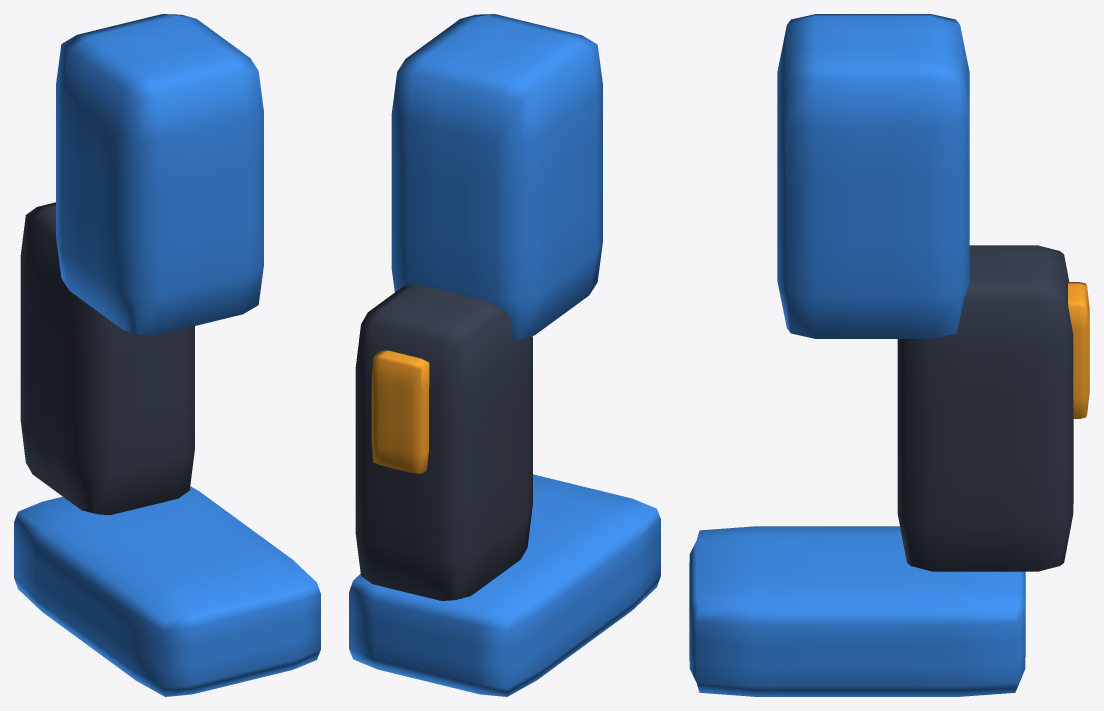
The model's file is leg_reverse.obj.
The picture shows the model from 3 angles, left to right: view 1: azimuth 30°, elevation 25°; view 2: azimuth 150°, elevation 25°; view 3: azimuth 270°, elevation 25°; orthographic projection. The views are drawn at different scales.
Size of the model in its own units: 0.26 by 0.86 by 0.5.
